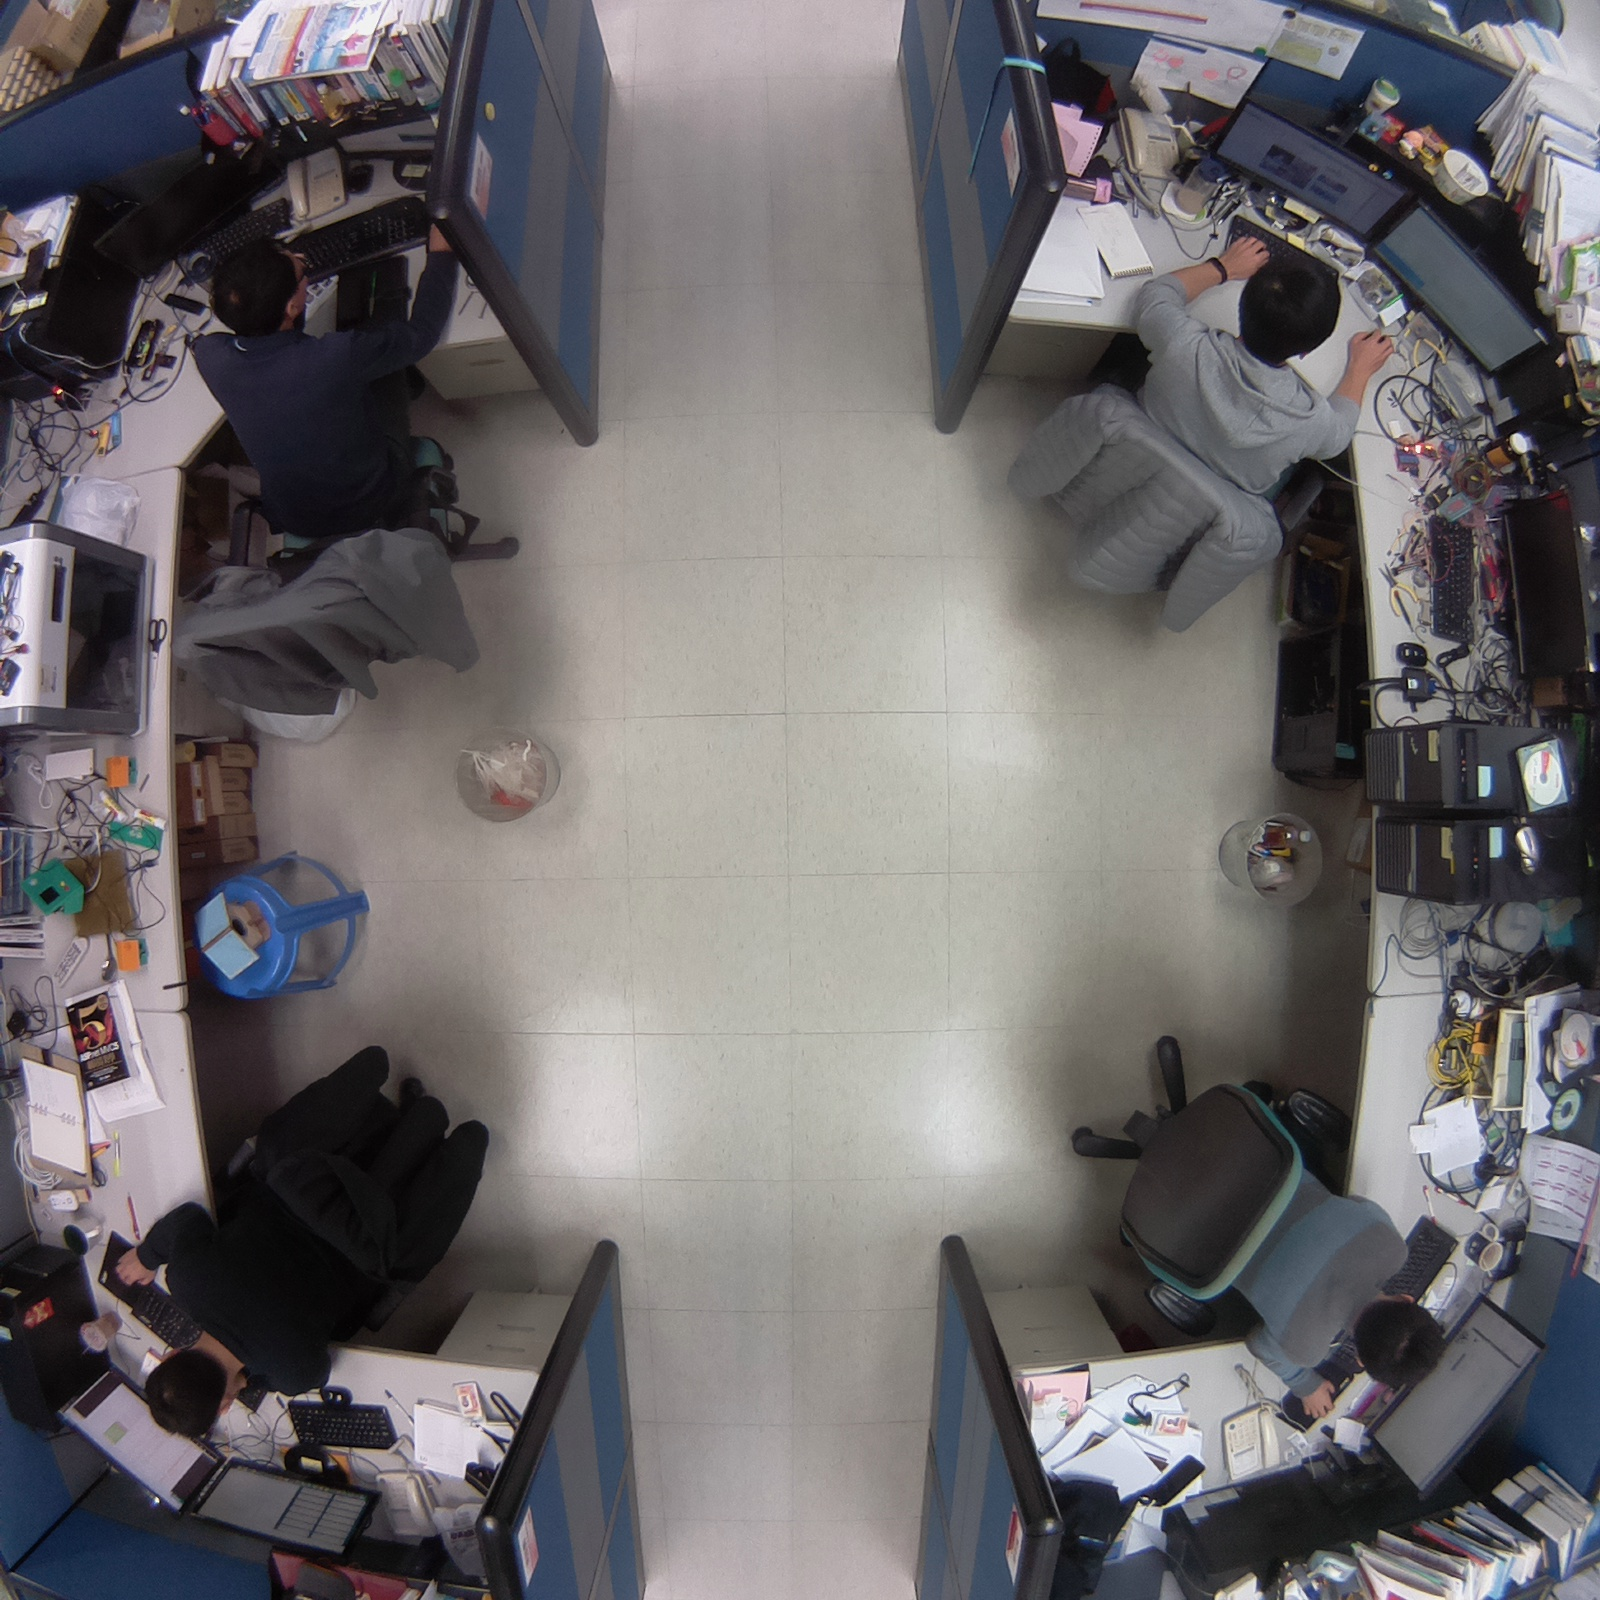head: (1232, 248, 1349, 372), (197, 236, 321, 344), (1349, 1289, 1453, 1391), (144, 1340, 240, 1444)
sitting: (150, 214, 560, 737), (99, 1006, 522, 1458), (983, 206, 1406, 652), (1060, 1027, 1460, 1414)
